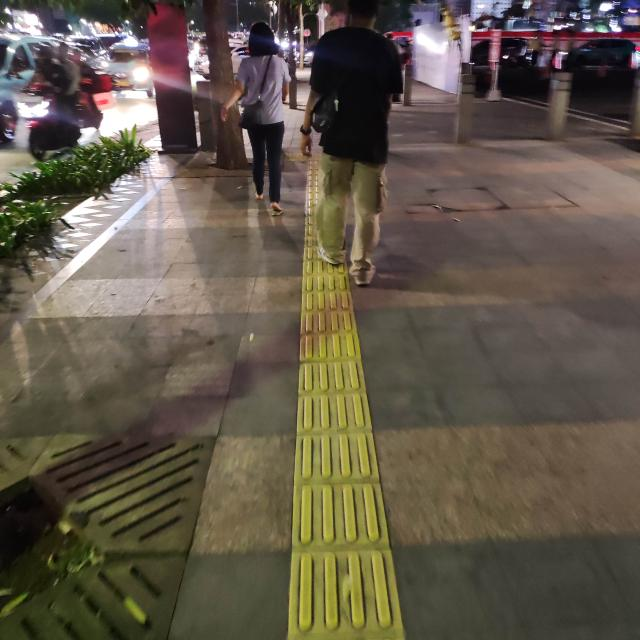lurus: (275, 266, 400, 640)
